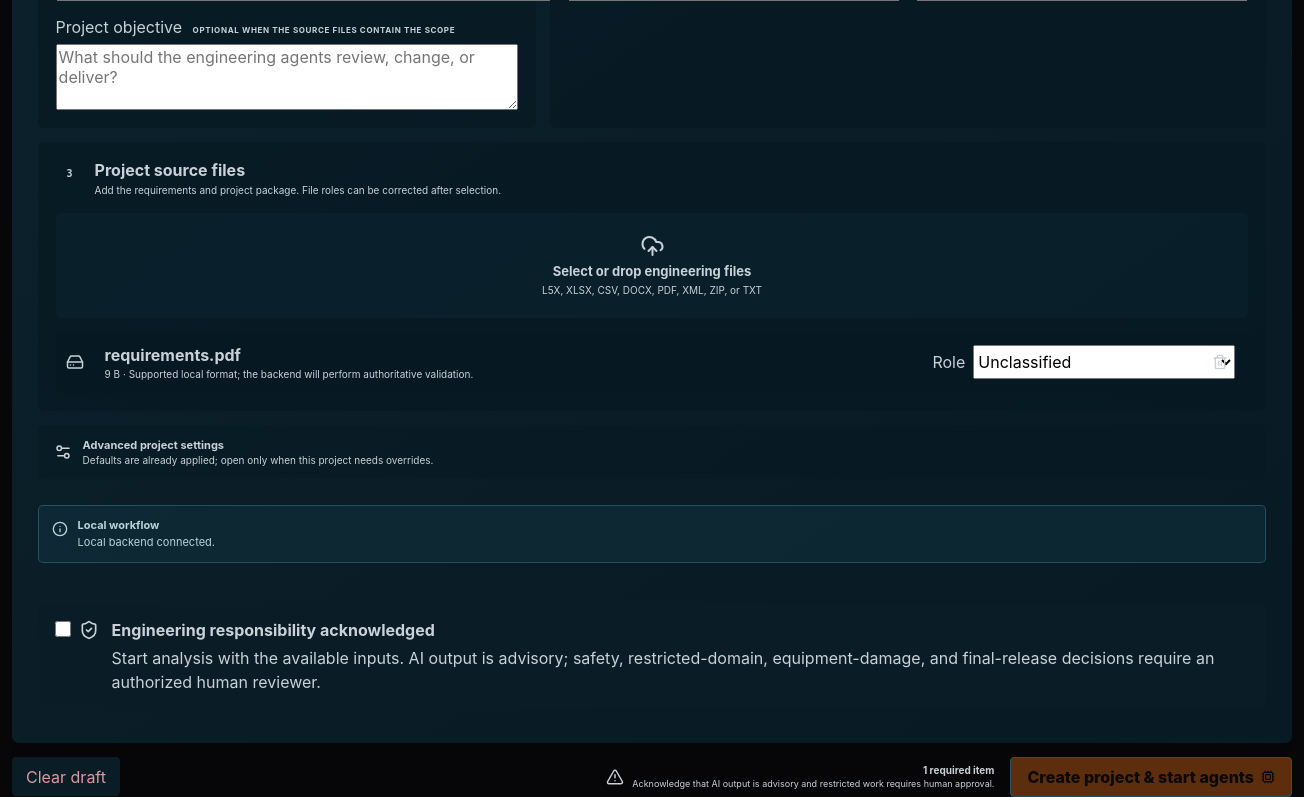
Scenario: ProjectIntake quick launch › launches with essential inputs and carries advanced defaults into submission
Earlier steps of the test are not shown.
(page scrolled)
Click the checkbox labelled "Engineering responsibility acknowledged".
click(63, 629)  # box [55,621,71,637]
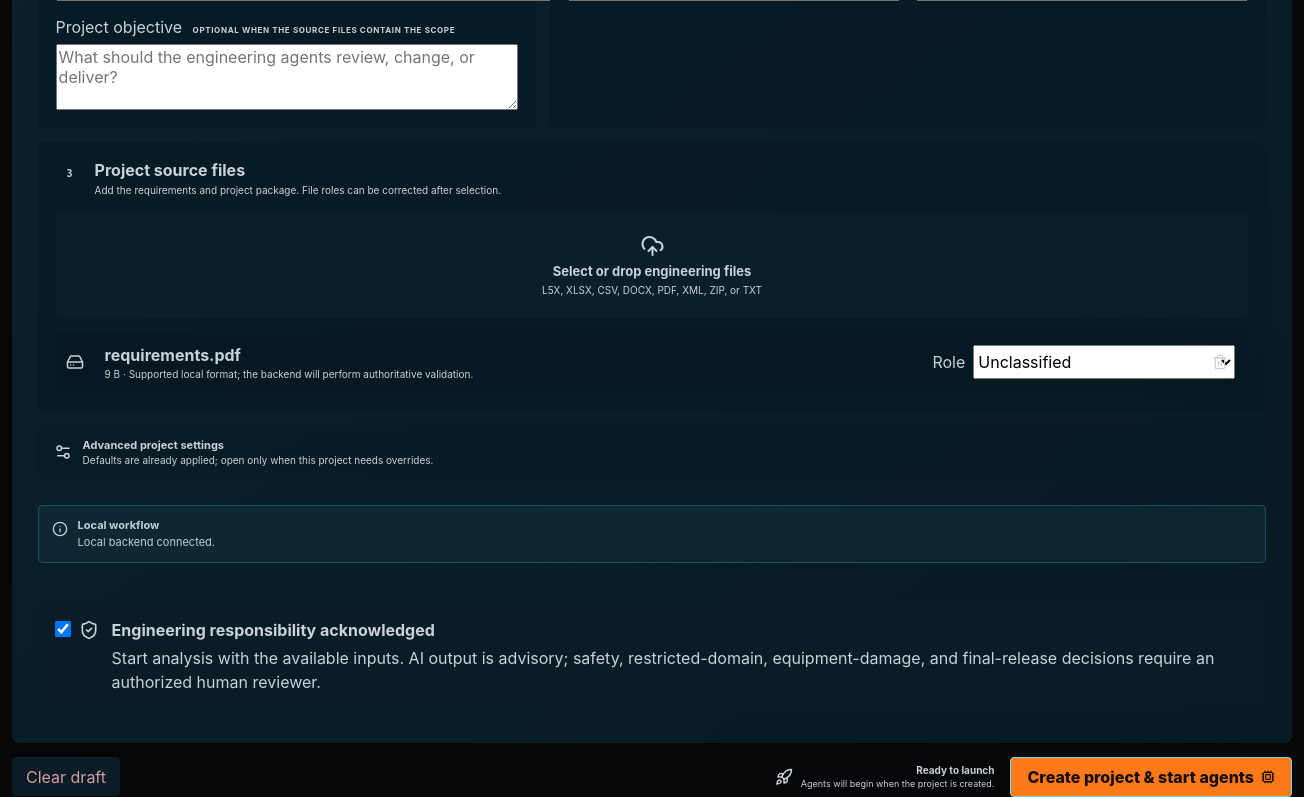
Check: the button "Create project & start agents" is enabled
Click the button "Create project & start agents".
click(1151, 777)  # box [1010,757,1292,796]
(page scrolled)
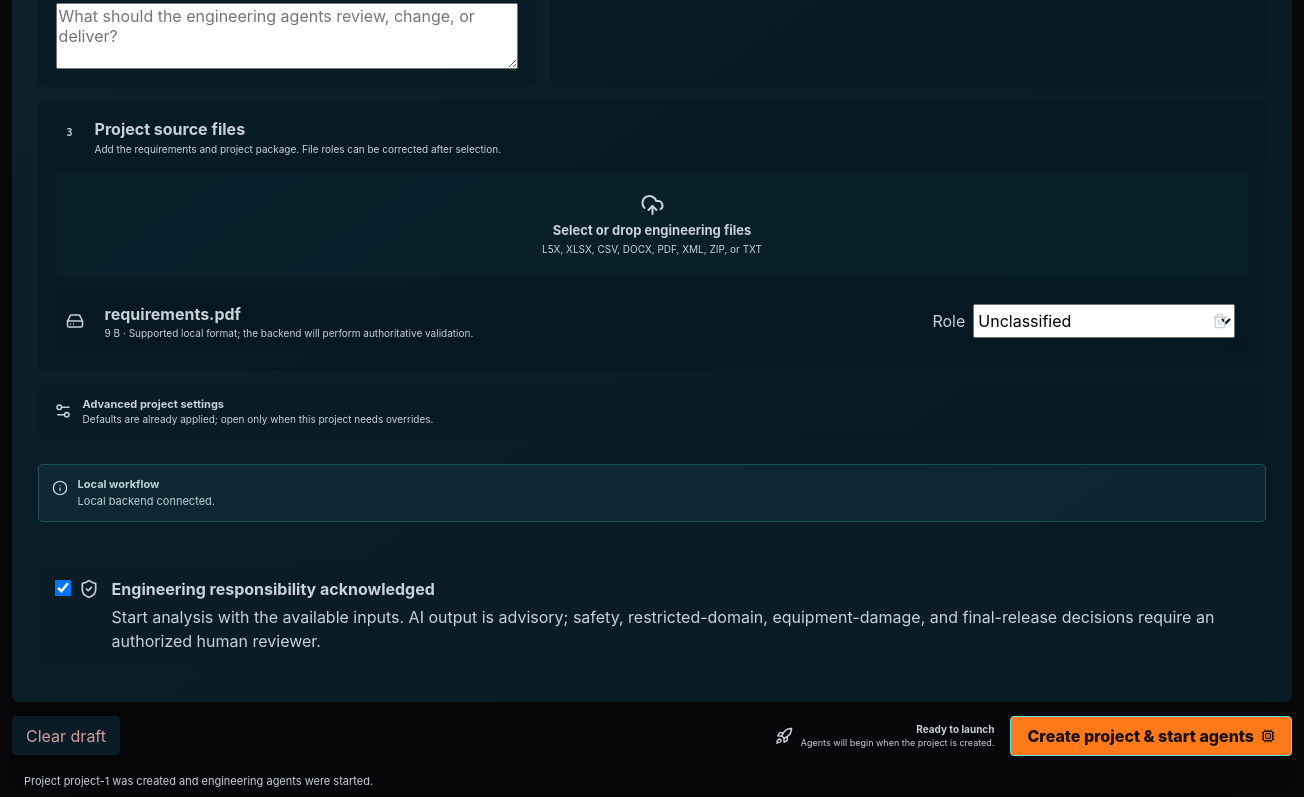
Check: the message shows "engineering agents were started", box [24,774,373,788]
